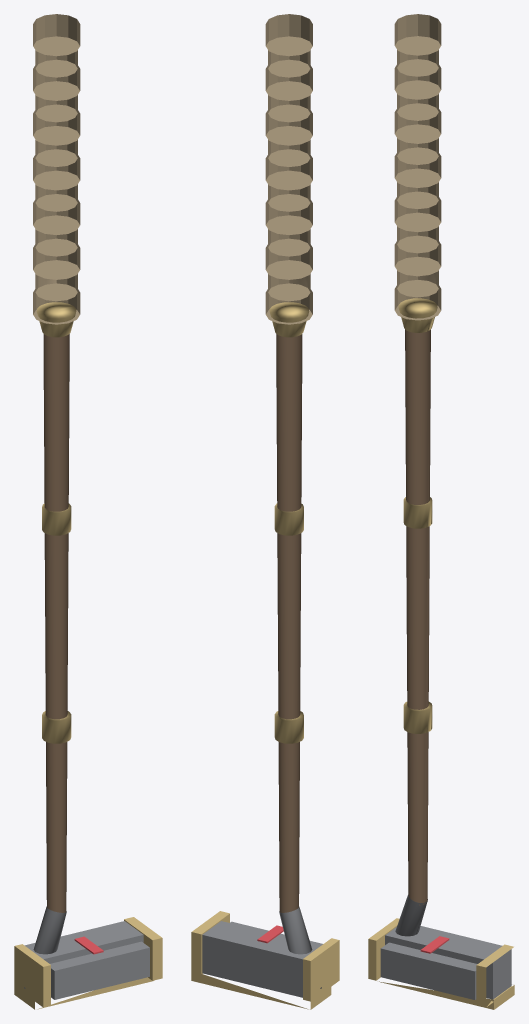
File: Mechanical Club.glb
3 views of the same model, side by side, from view 1: azimuth 30°, elevation 25°; view 2: azimuth 150°, elevation 25°; view 3: azimuth 330°, elevation 25° (orthographic).
Parts seen in each view (by area): view 1: Mechanical Club.001; view 2: Mechanical Club.001; view 3: Mechanical Club.001.
Boxes of the visible parts, bbox=[...] form: Mechanical Club.001: bbox=[14, 14, 162, 1009]; Mechanical Club.001: bbox=[191, 14, 339, 1009]; Mechanical Club.001: bbox=[368, 14, 514, 1009].
Bounding box in the file's own units: 0.1204 × 0.933 × 0.0525.
